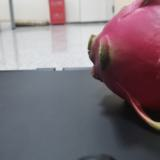pitaya: (88, 1, 160, 129)
